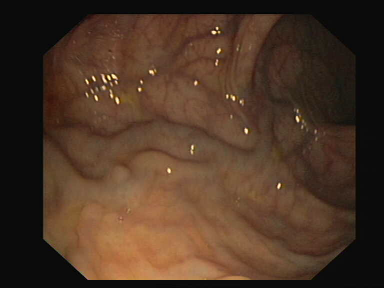polyp: (103, 156, 141, 190)
